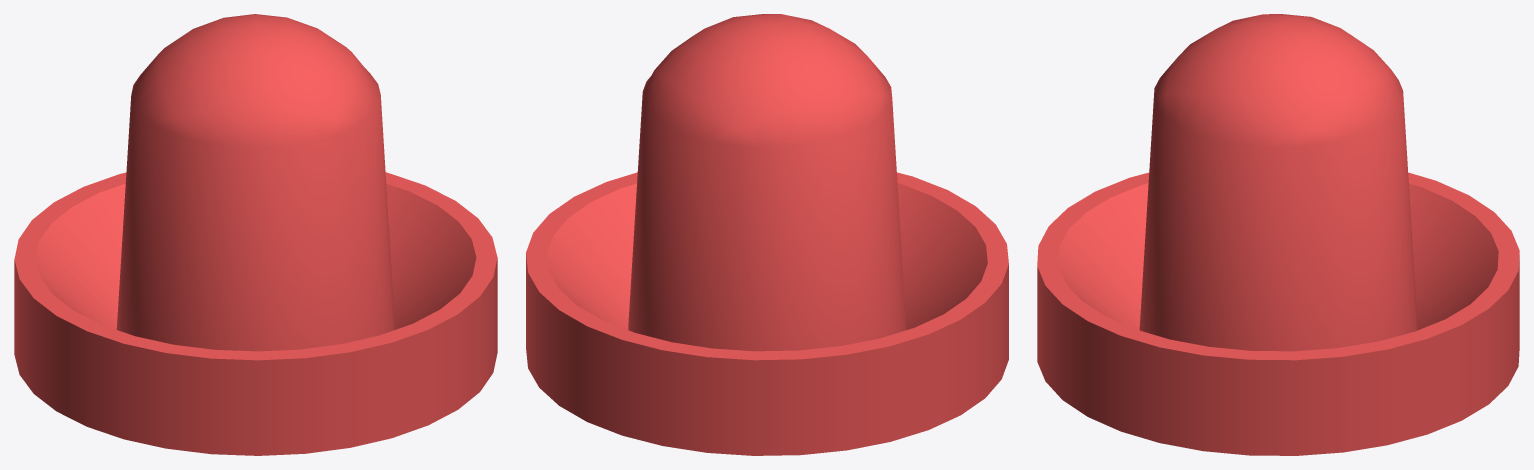
The model's file is paddle_red.glb.
The picture shows the model from 3 angles, left to right: view 1: azimuth 30°, elevation 25°; view 2: azimuth 150°, elevation 25°; view 3: azimuth 270°, elevation 25°; orthographic projection.
Visible parts, largest first — view 1: Circle.001_0; view 2: Circle.001_0; view 3: Circle.001_0.
Part boxes in pixels (x1,y1,x2,y2): Circle.001_0: (14,14,497,455); Circle.001_0: (526,14,1008,455); Circle.001_0: (1037,14,1519,455).
Bounding box in the file's own units: 0.1665 × 0.1249 × 0.1665.
